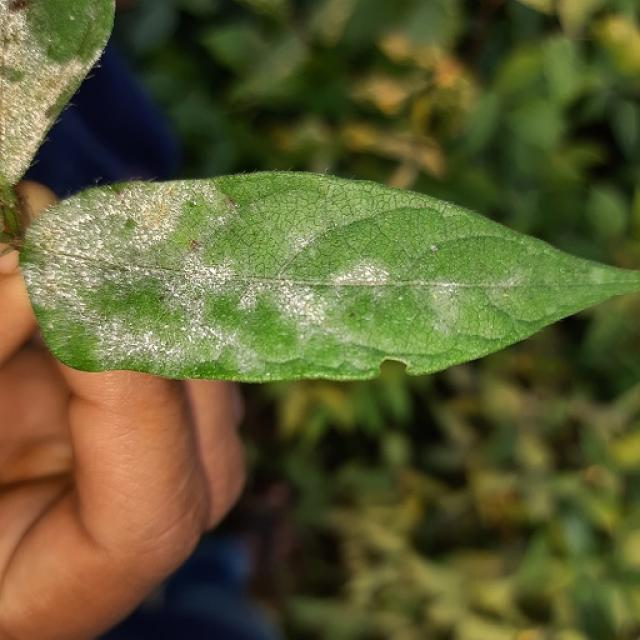Blackgram: (21, 172, 639, 381)
Powdery_Mildew: (123, 216, 277, 341), (71, 276, 238, 368), (223, 269, 360, 337), (1, 60, 66, 172), (40, 207, 141, 272), (389, 280, 481, 340), (104, 193, 196, 253), (46, 223, 101, 301), (25, 258, 98, 311), (21, 49, 90, 103), (174, 253, 241, 300), (330, 260, 391, 286), (2, 7, 34, 56), (583, 265, 628, 287), (184, 359, 224, 377), (63, 4, 91, 28), (3, 63, 26, 84), (143, 329, 157, 343), (44, 270, 59, 282), (7, 198, 18, 212), (187, 200, 197, 208), (430, 244, 438, 252), (397, 295, 404, 302), (264, 371, 271, 378), (69, 15, 76, 21)
